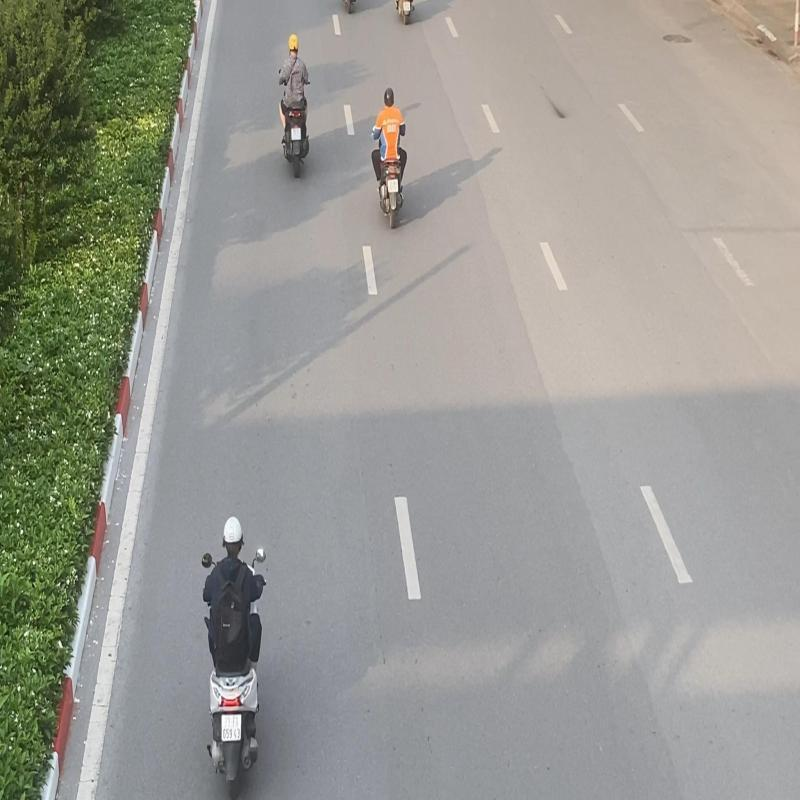helmet: (222, 516, 243, 545)
licenseplate: (219, 714, 243, 742)
motorcyclist: (196, 510, 274, 800)
